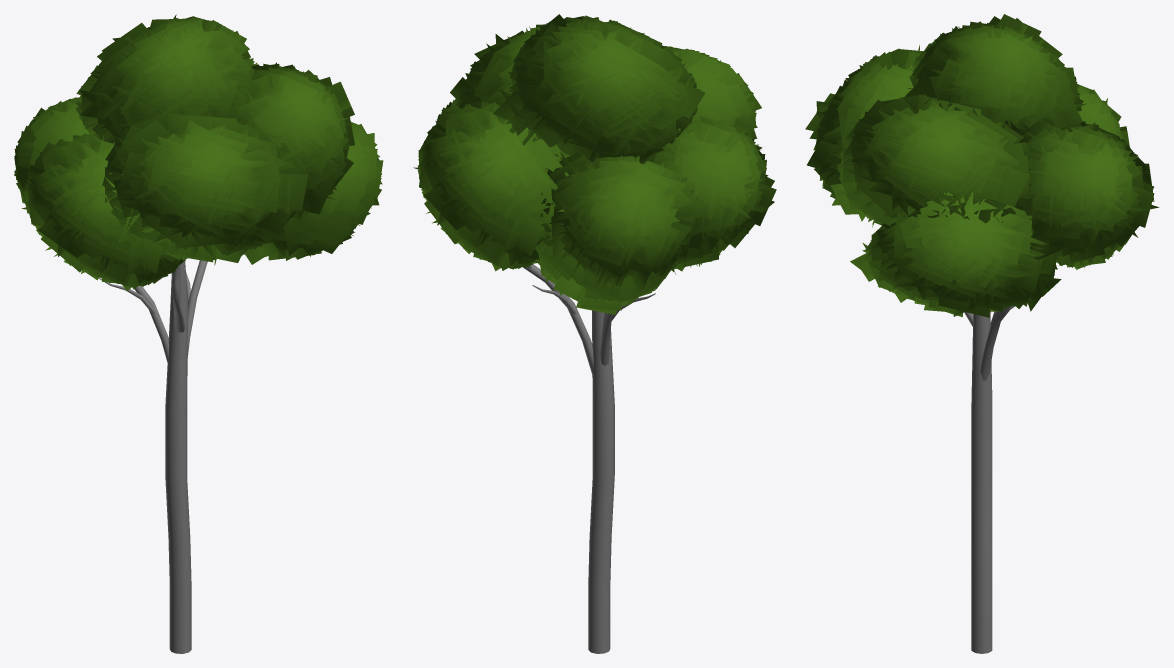
File: SM_tree_02.fbx
3 renders of one model, left to right at view 1: azimuth 30°, elevation 25°; view 2: azimuth 150°, elevation 25°; view 3: azimuth 270°, elevation 25°, orthographic.
Visible parts, largest first — view 1: Line010; view 2: Line010; view 3: Line010.
Part boxes in pixels (x1,y1,x2,y2): Line010: (14, 14, 383, 653); Line010: (413, 14, 776, 653); Line010: (805, 14, 1159, 653).
Size of the model in its own units: 238 by 432 by 224.
